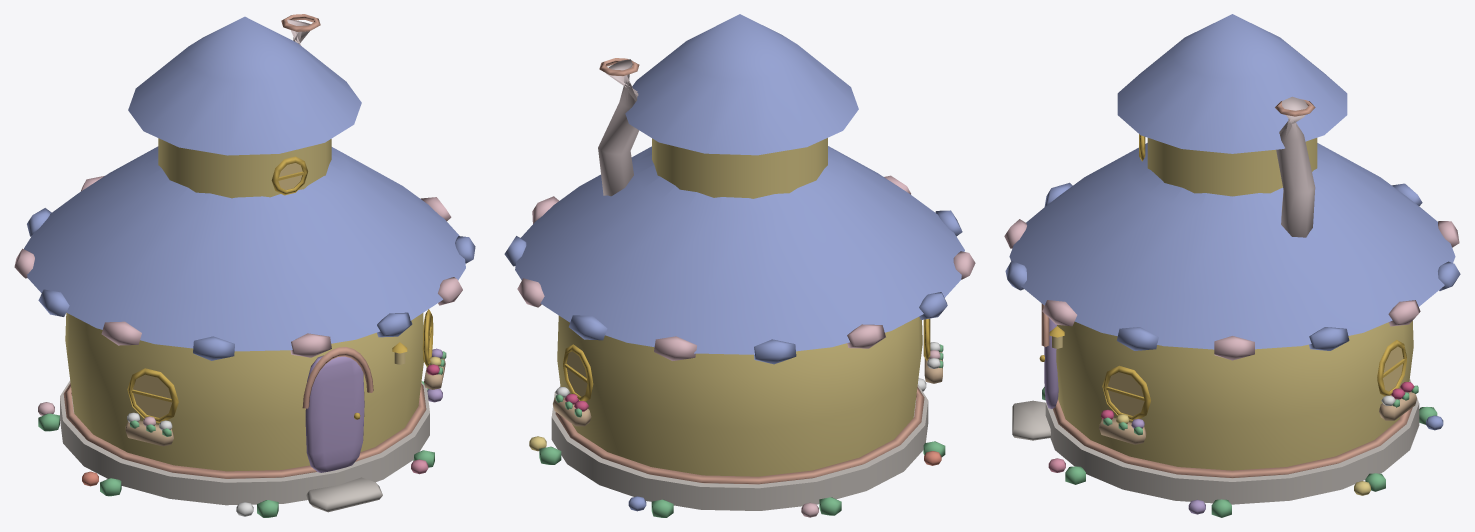
Rendered from fae_cottage_c.gltf.
3 renders of one model, left to right at view 1: azimuth 30°, elevation 25°; view 2: azimuth 150°, elevation 25°; view 3: azimuth 270°, elevation 25°, orthographic.
Parts seen in each view (by area): view 1: fae_cottage_c; view 2: fae_cottage_c; view 3: fae_cottage_c.
Part boxes in pixels (x1=…): fae_cottage_c: x1=14, y1=14, x2=475, y2=517; fae_cottage_c: x1=504, y1=14, x2=975, y2=517; fae_cottage_c: x1=1004, y1=14, x2=1460, y2=517.
Size of what is drawn, in the model's own units: 7.47 by 7.46 by 7.33.
